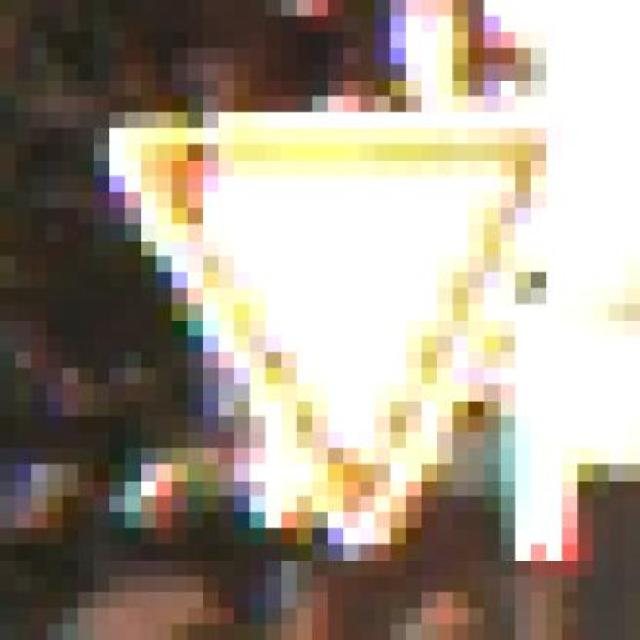Give Way: (78, 79, 593, 576)
